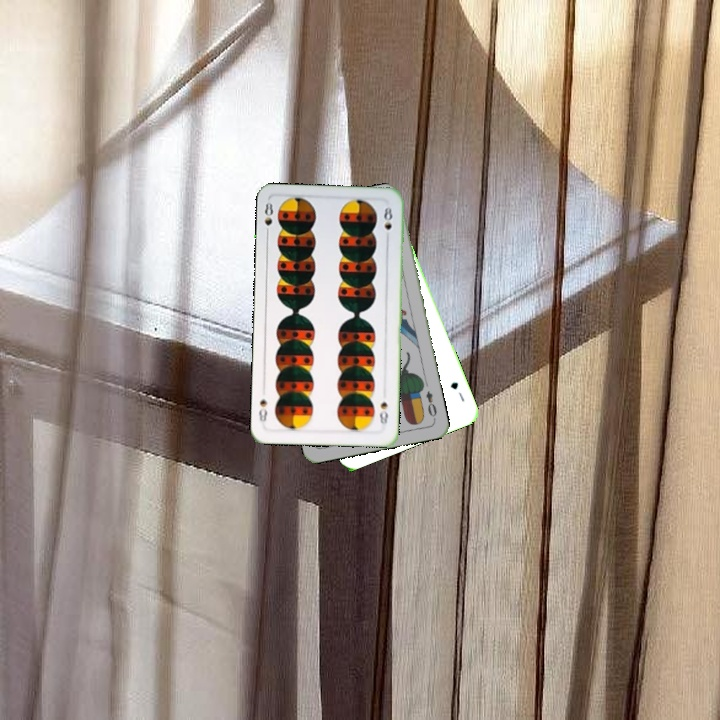EO: (422, 387, 439, 422)
GU: (447, 378, 467, 404)
S8: (261, 198, 275, 239), (375, 398, 391, 431)
